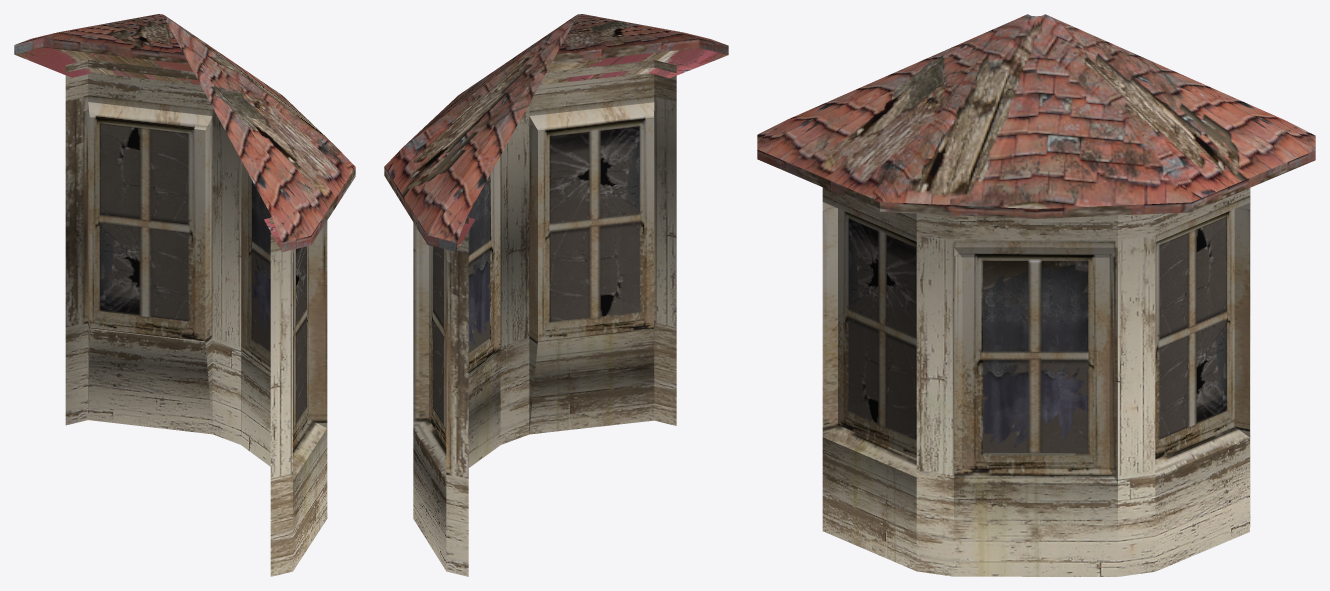
The model's file is House_01_06.fbx.
The picture shows the model from 3 angles, left to right: view 1: azimuth 30°, elevation 25°; view 2: azimuth 150°, elevation 25°; view 3: azimuth 270°, elevation 25°; orthographic projection. The views are drawn at different scales.
Parts seen in each view (by area): view 1: Cube.007; view 2: Cube.007; view 3: Cube.007.
Part boxes in pixels (<box>): Cube.007: <box>14,14,355,576</box>; Cube.007: <box>384,14,728,576</box>; Cube.007: <box>757,14,1315,576</box>.
Bounding box in the file's own units: 2.32 × 7.31 × 7.36.
